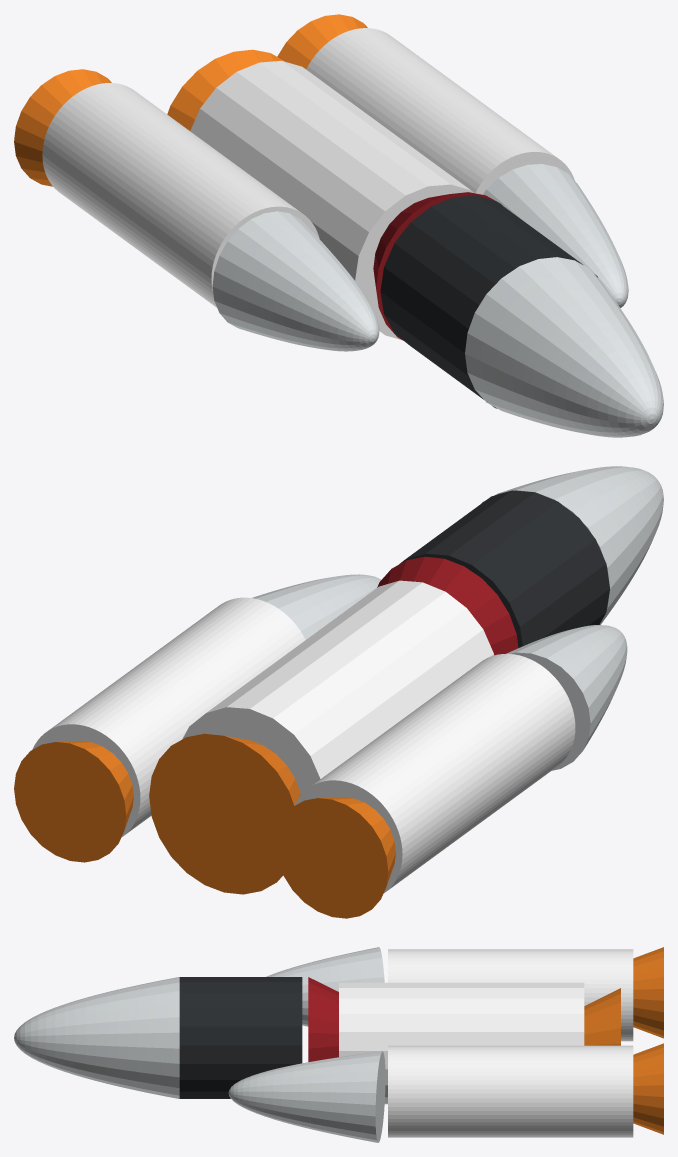
File: tinker.obj
3 renders of one model, top to bottom at view 1: azimuth 30°, elevation 25°; view 2: azimuth 150°, elevation 25°; view 3: azimuth 270°, elevation 25°, orthographic. The views are drawn at different scales.
Visible parts, largest first — view 1: group_0_16448250, group_0_14541540, group_0_2829873, group_0_16089887, group_0_9771553; view 2: group_0_16448250, group_0_16089887, group_0_14541540, group_0_2829873, group_0_9771553; view 3: group_0_16448250, group_0_14541540, group_0_2829873, group_0_16089887, group_0_9771553.
Part boxes in pixels (<box>): group_0_16448250: <box>42,28,574,339</box>; group_0_14541540: <box>212,164,663,437</box>; group_0_2829873: <box>380,195,597,408</box>; group_0_16089887: <box>14,14,367,186</box>; group_0_9771553: <box>373,192,502,340</box>; group_0_16448250: <box>32,580,575,893</box>; group_0_16089887: <box>14,733,395,918</box>; group_0_14541540: <box>252,466,663,770</box>; group_0_2829873: <box>400,490,609,647</box>; group_0_9771553: <box>377,556,518,655</box>; group_0_16448250: <box>339,949,633,1137</box>; group_0_14541540: <box>14,947,385,1142</box>; group_0_2829873: <box>179,977,302,1098</box>; group_0_16089887: <box>584,947,663,1134</box>; group_0_9771553: <box>308,977,338,1061</box>.
Size of the model in its own units: 51 by 22 by 106.
